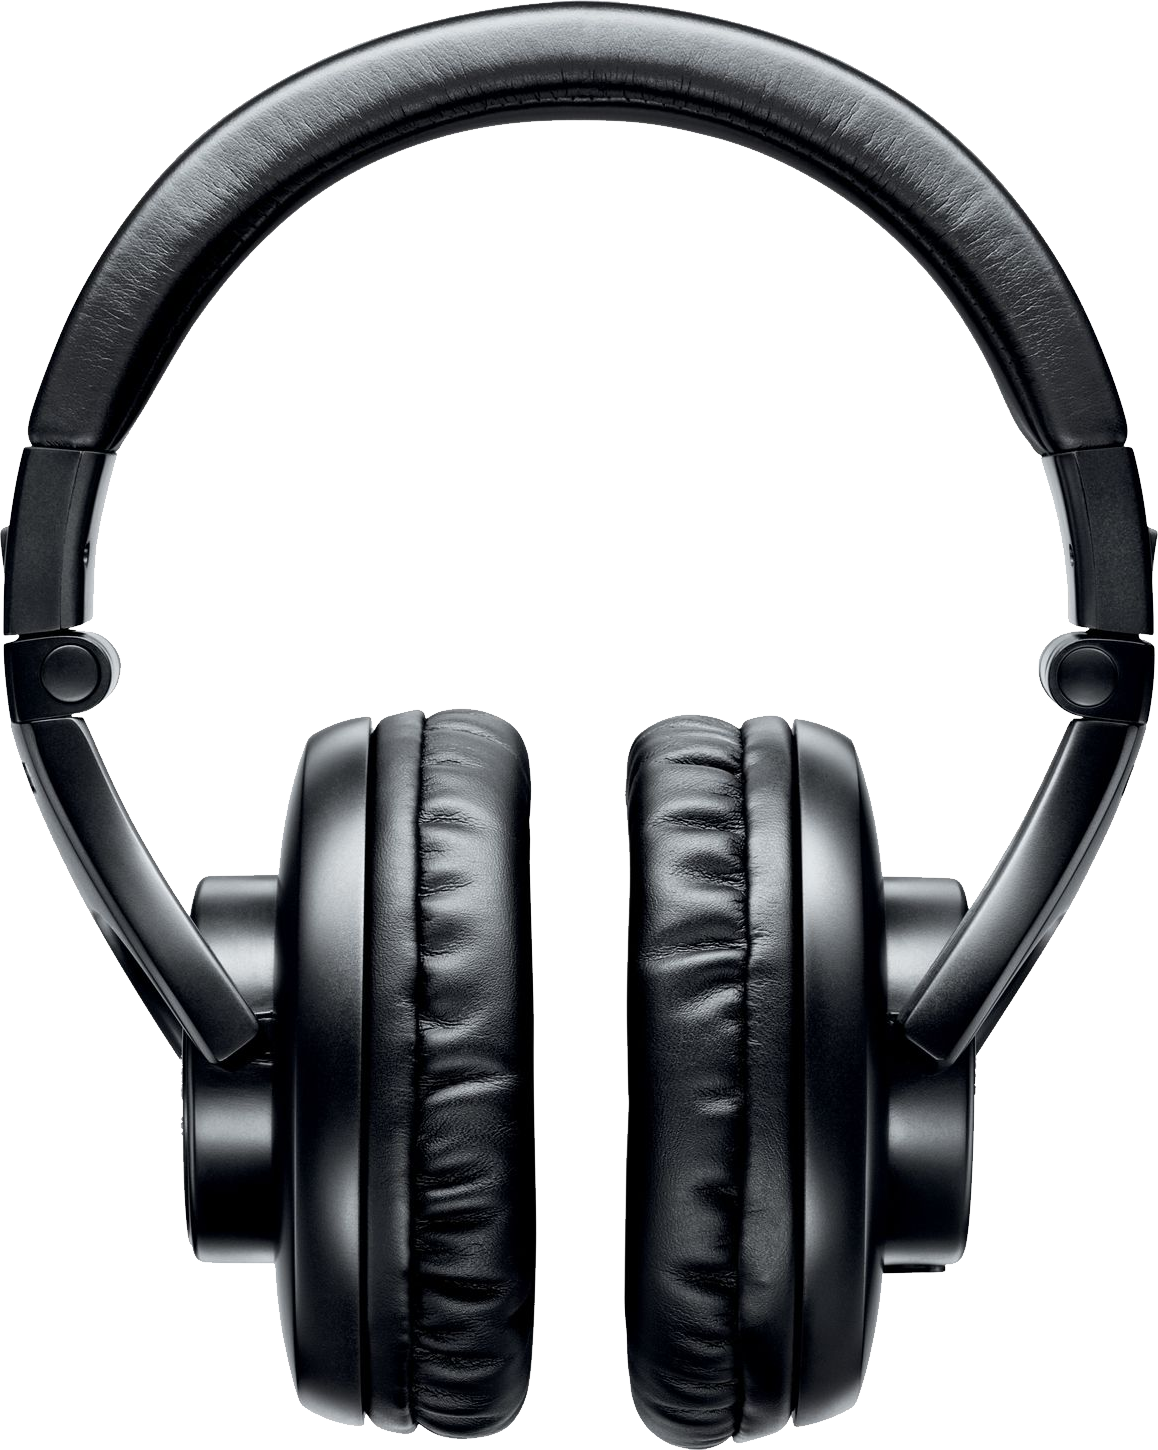headphone: (22, 70, 1158, 1431)
